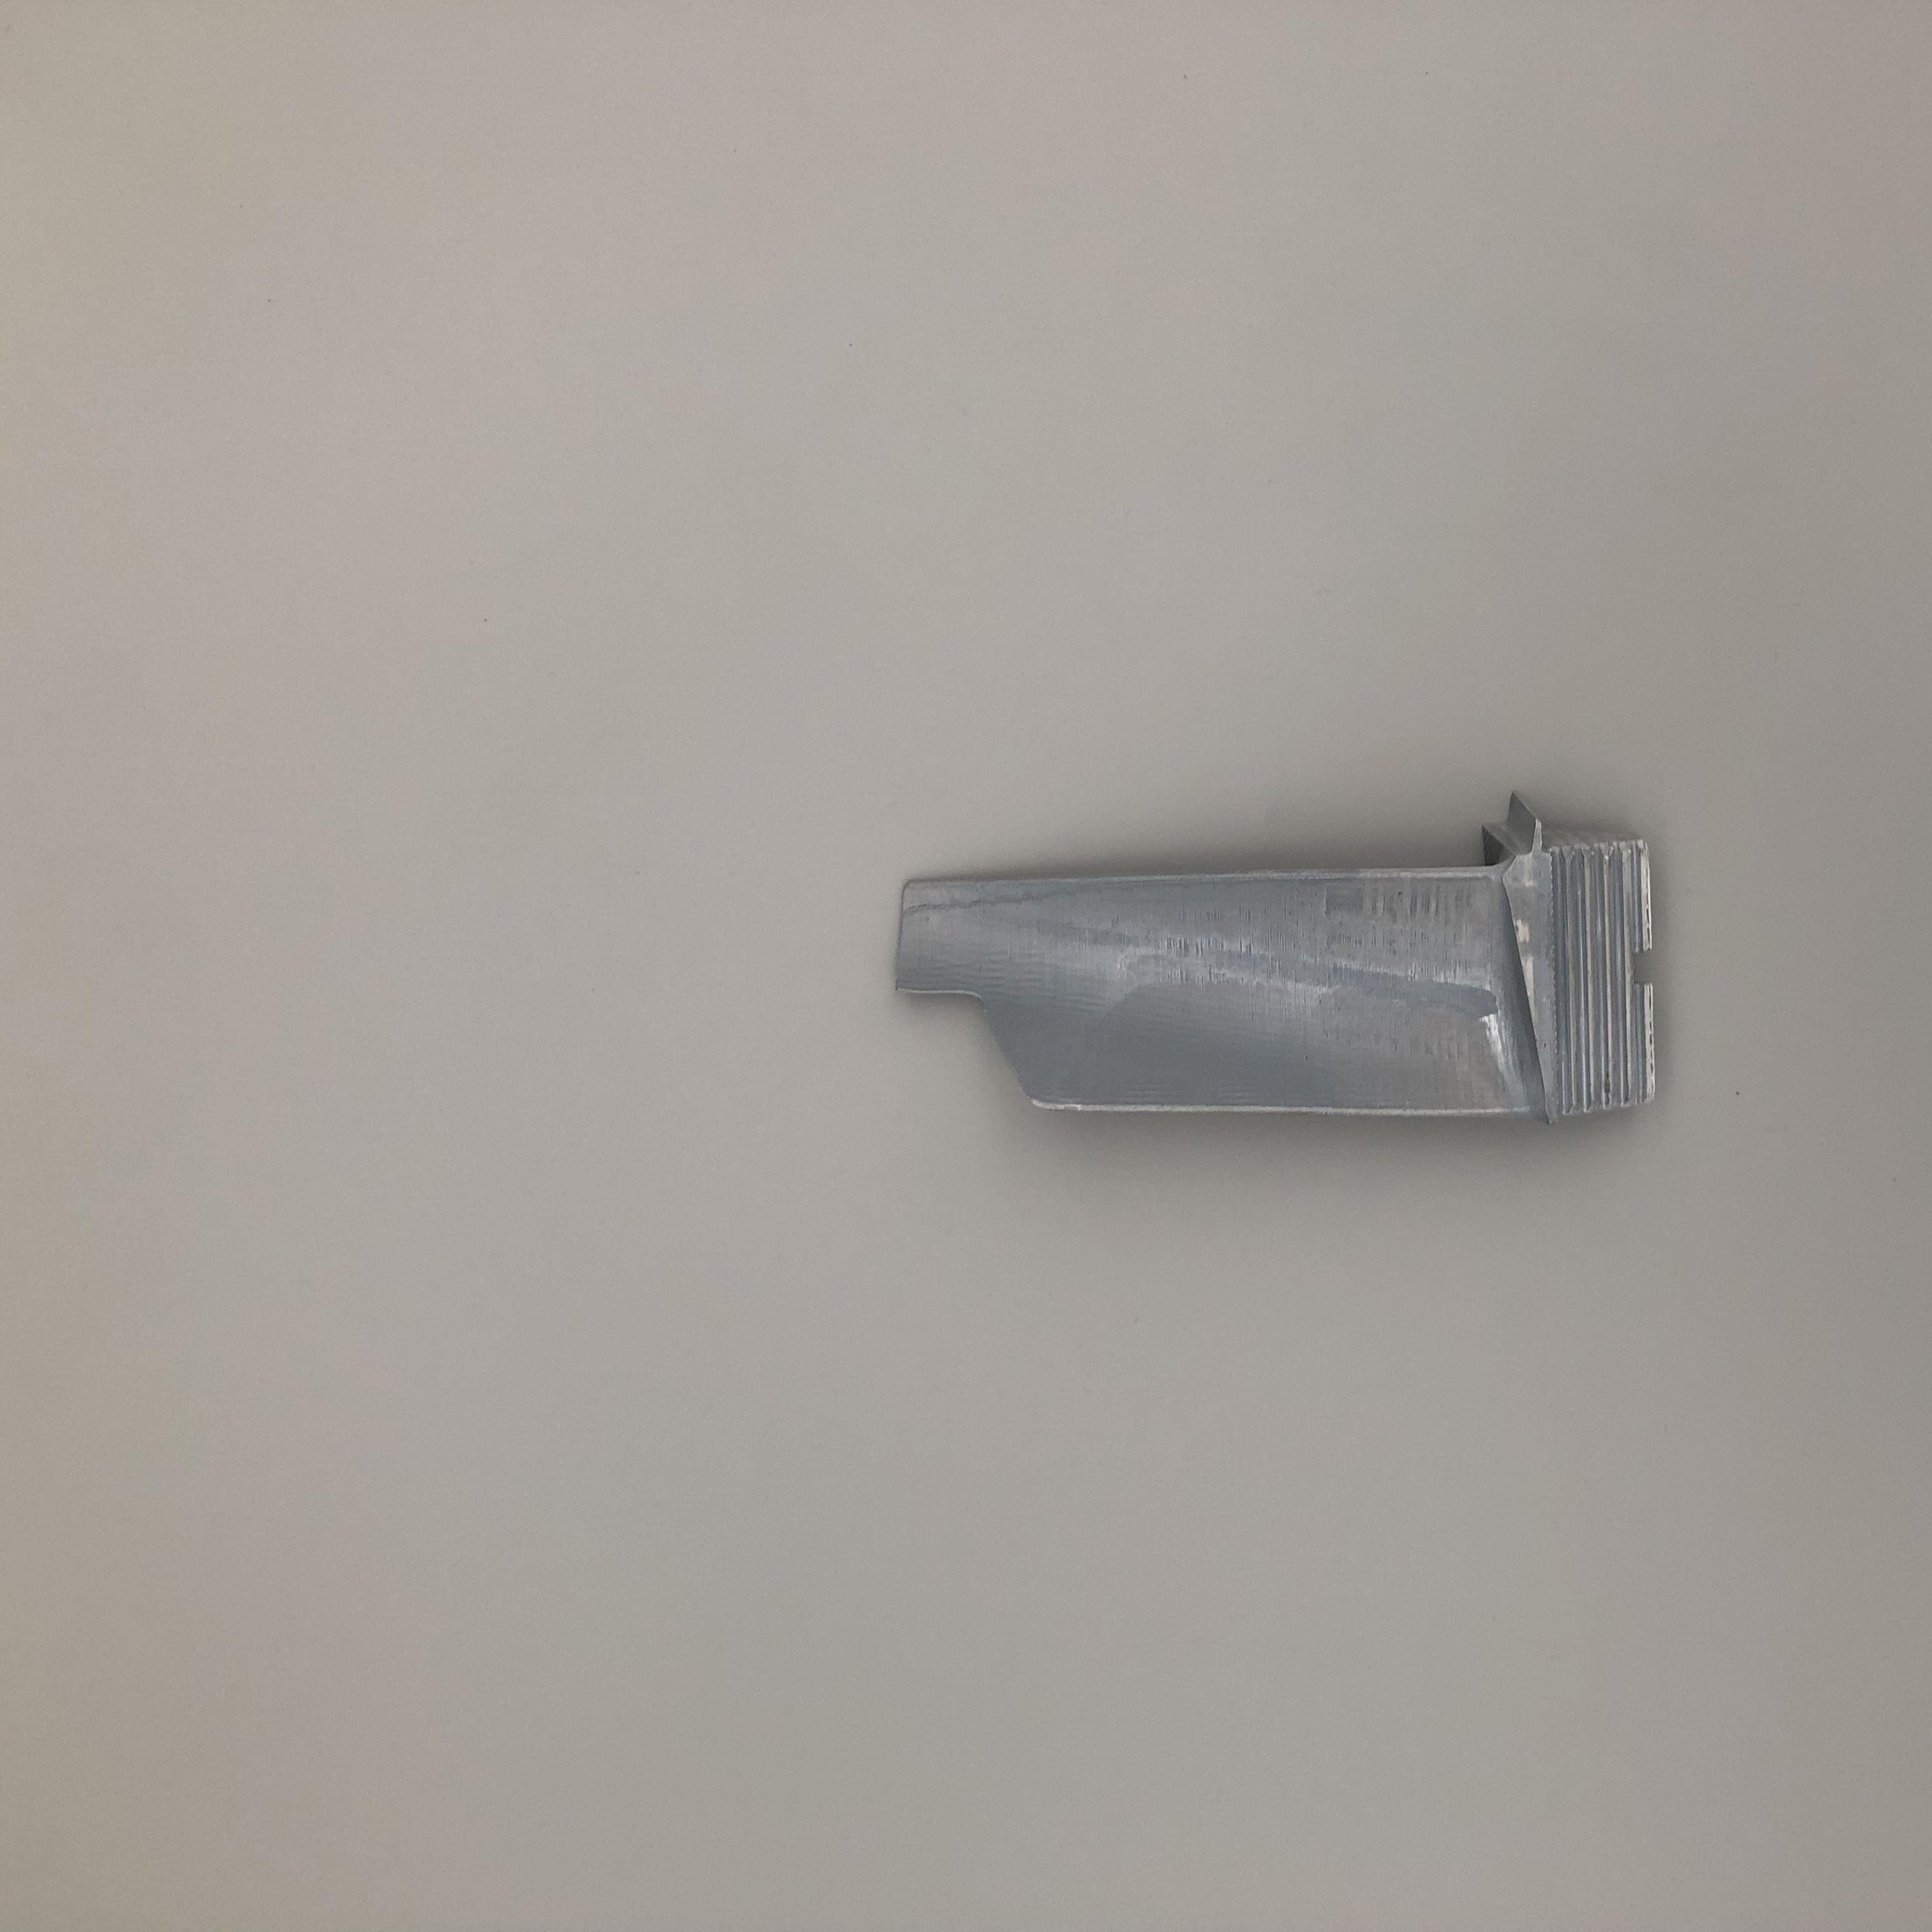fracture: (901, 973, 1079, 1113)
